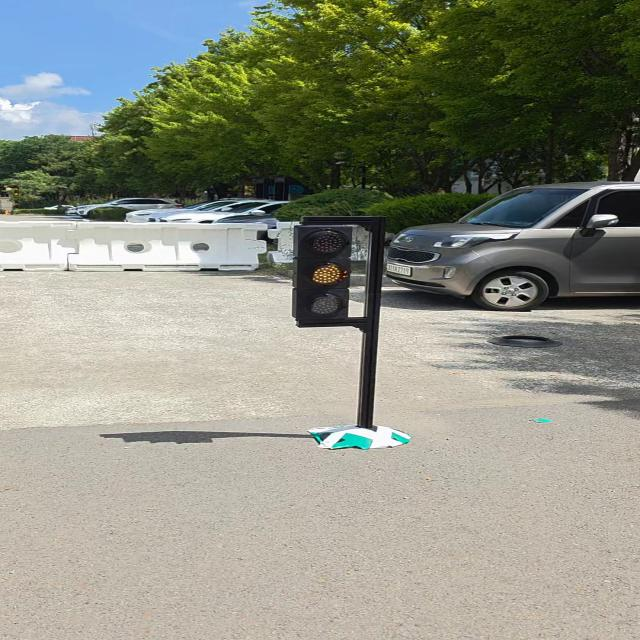yellow: (296, 218, 350, 326)
